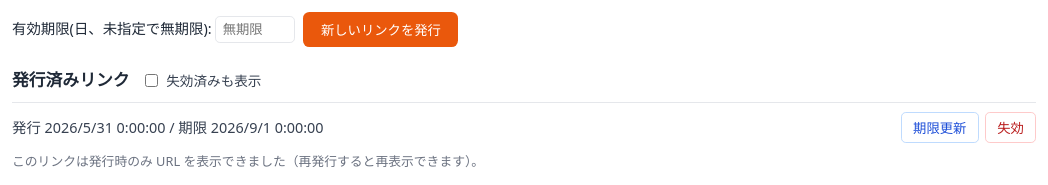
Test: MagicLinkManager › 失効の『やめる』で確認を閉じ API を呼ばない
The image size is (1048, 185).
Click the button "失効" at (1010, 128), box x1=985 y1=112 x2=1036 y2=143
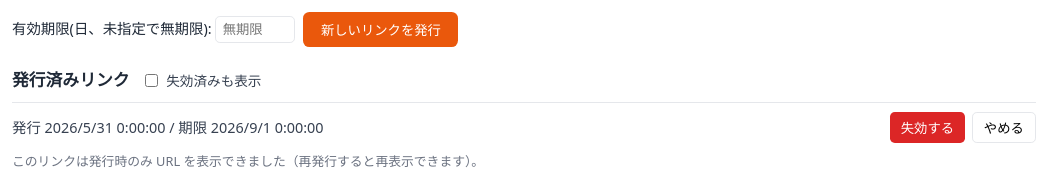
Click the button "やめる" at (1004, 128), box x1=972 y1=112 x2=1036 y2=143
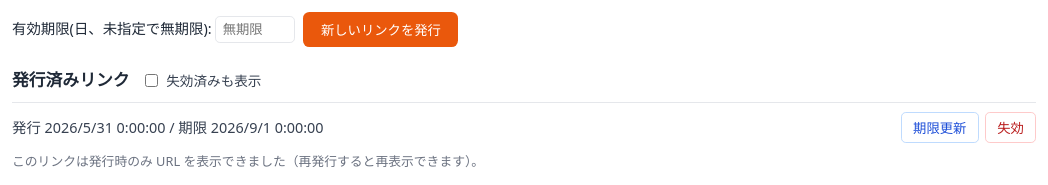
Check: the button "失効" is shown, box x1=985 y1=112 x2=1036 y2=143
